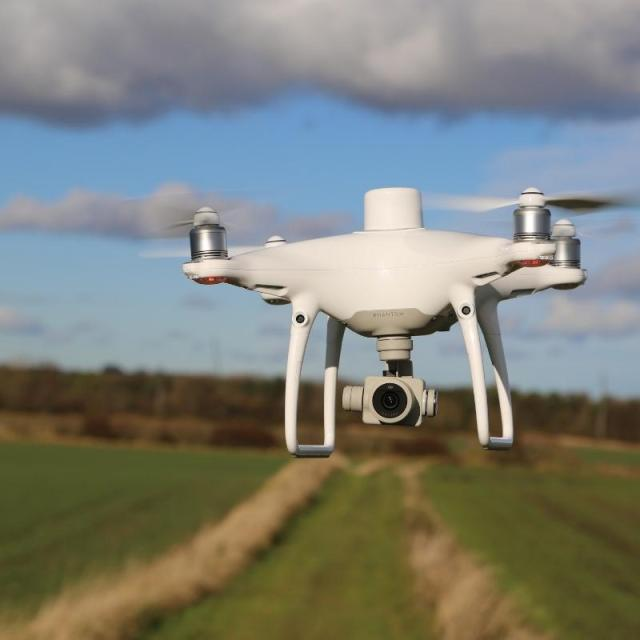drone: (116, 138, 624, 468)
